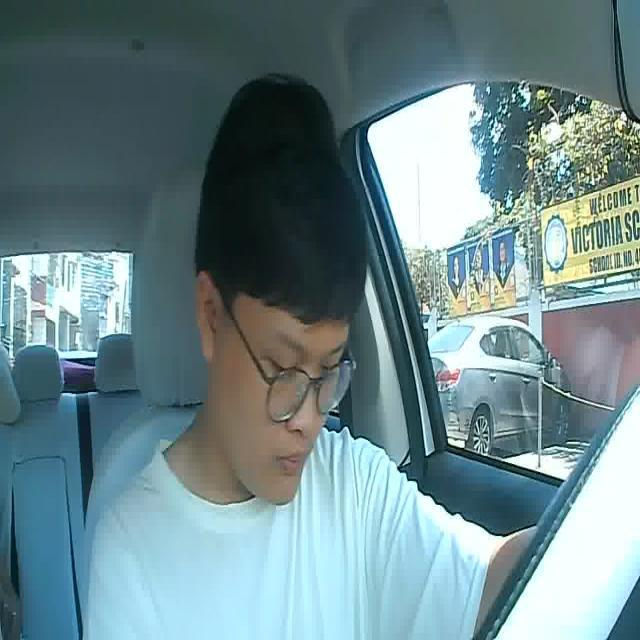Eye-Close: (267, 352, 298, 378), (311, 353, 342, 379)
Inattentive: (196, 99, 362, 506)
Normal: (275, 451, 309, 476)
